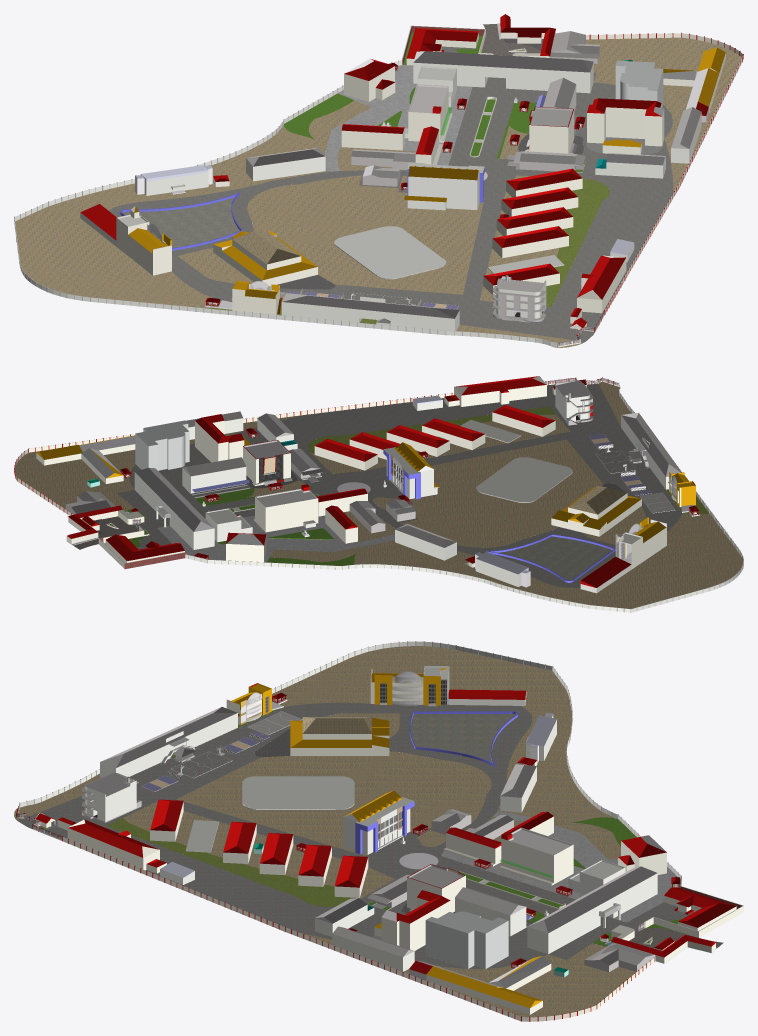
Rendered from TakeAMaap-small.glb.
The picture shows the model from 3 angles, top to bottom: view 1: azimuth 30°, elevation 25°; view 2: azimuth 150°, elevation 25°; view 3: azimuth 270°, elevation 25°; orthographic projection. The views are drawn at different scales.
Parts seen in each view (by area): view 1: Node1, Node6175, Node1016, Node11537, Node11640, Node8145, Node7681, Node8204, Node10237; view 2: Node1, Node6175, Node1016, Node11537, Node11640, Node8145, Node7681, Node10237, Node178, Node1357, Node8124, Node10197; view 3: Node1, Node6175, Node1016, Node11640, Node11537, Node7681, Node178, Node8145, Node10237, Node8204.
Part boxes in pixels (x1=…): Node1: x1=14, y1=14, x2=743, y2=347; Node6175: x1=15, y1=37, x2=741, y2=347; Node1016: x1=109, y1=46, x2=673, y2=343; Node11537: x1=324, y1=65, x2=472, y2=171; Node11640: x1=122, y1=197, x2=239, y2=248; Node8145: x1=284, y1=32, x2=585, y2=171; Node7681: x1=209, y1=178, x2=609, y2=324; Node8204: x1=277, y1=38, x2=583, y2=289; Node10237: x1=482, y1=24, x2=541, y2=55; Node1: x1=14, y1=376, x2=743, y2=612; Node6175: x1=15, y1=381, x2=742, y2=608; Node1016: x1=117, y1=380, x2=682, y2=587; Node11537: x1=157, y1=515, x2=394, y2=562; Node11640: x1=497, y1=536, x2=612, y2=580; Node8145: x1=105, y1=479, x2=356, y2=565; Node7681: x1=308, y1=406, x2=709, y2=513; Node10237: x1=73, y1=516, x2=138, y2=549; Node178: x1=156, y1=447, x2=678, y2=563; Node1357: x1=640, y1=492, x2=674, y2=512; Node8124: x1=259, y1=454, x2=283, y2=482; Node10197: x1=100, y1=538, x2=186, y2=569; Node1: x1=16, y1=641, x2=743, y2=1021; Node6175: x1=14, y1=646, x2=635, y2=1017; Node1016: x1=15, y1=702, x2=694, y2=968; Node11640: x1=410, y1=713, x2=515, y2=762; Node11537: x1=441, y1=811, x2=680, y2=922; Node7681: x1=39, y1=696, x2=356, y2=906; Node178: x1=217, y1=668, x2=620, y2=917; Node8145: x1=368, y1=817, x2=680, y2=946; Node10237: x1=629, y1=928, x2=723, y2=948; Node8204: x1=254, y1=729, x2=454, y2=913.
Bounding box in the file's own units: 346 × 16.39 × 284.
29 materials, 29 textured.
